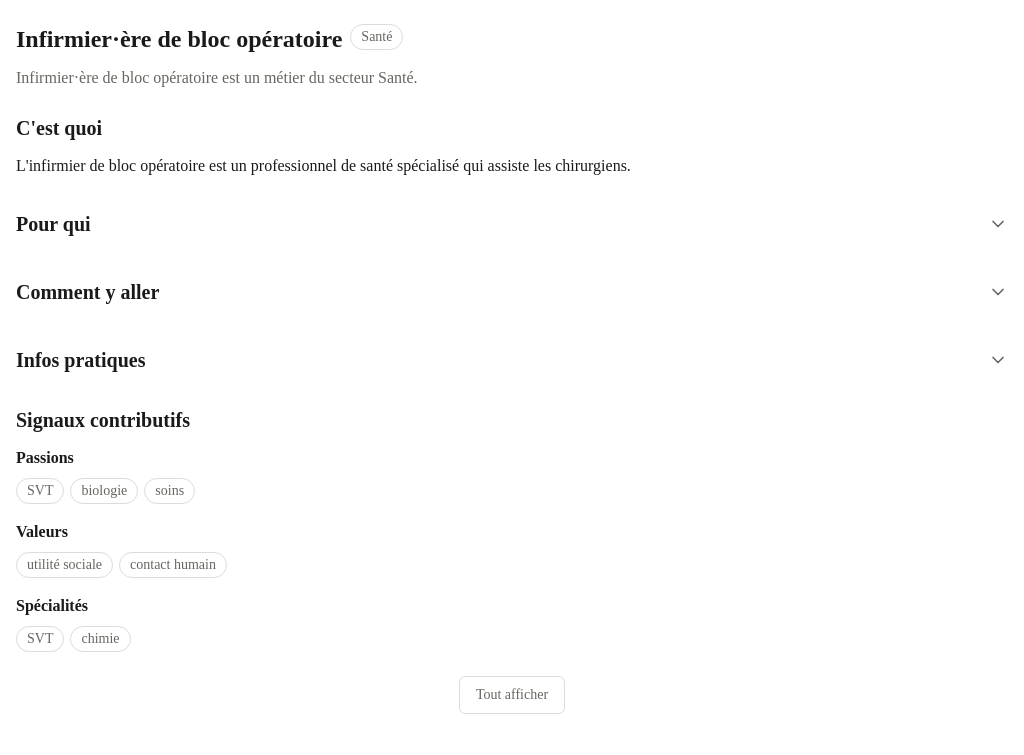
Test case: AC8 — accordéon : tap sur section 3 → expand, aria-expanded=true › clic sur 'Pour qui' → aria-expanded=true et contenu visible
Click the button "Pour qui": [53, 224] box 16,202 -> 1008,246
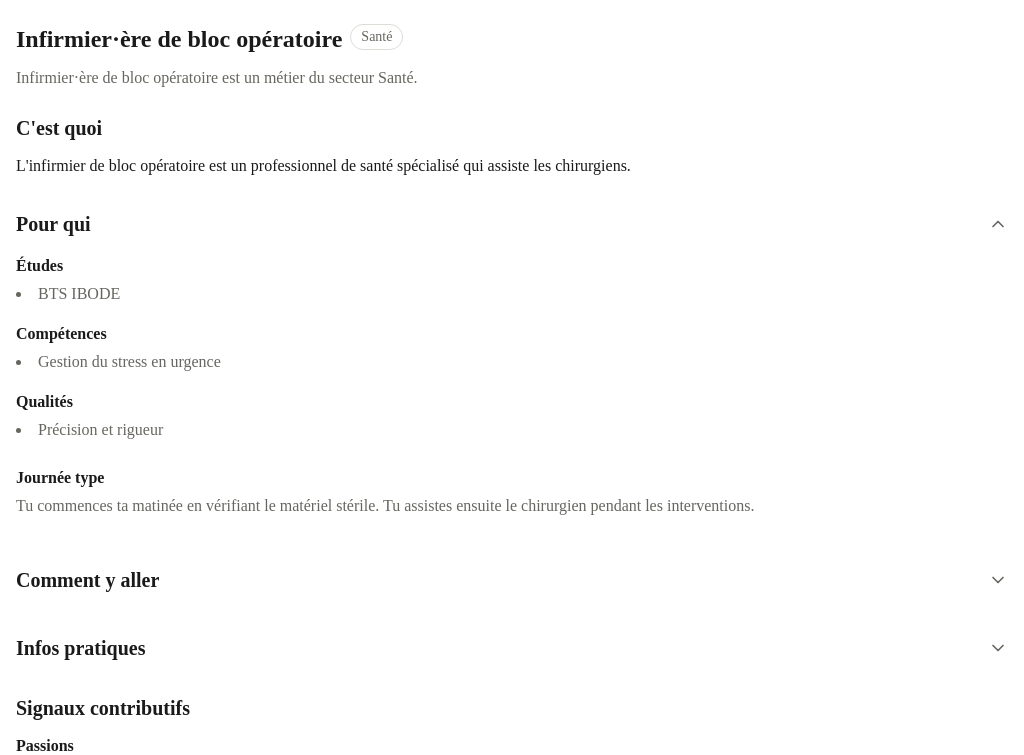
Check: the button "Pour qui" is expanded, box 16,202 -> 1008,246
Check: the list item "BTS IBODE" is shown, box 38,285 -> 120,302
